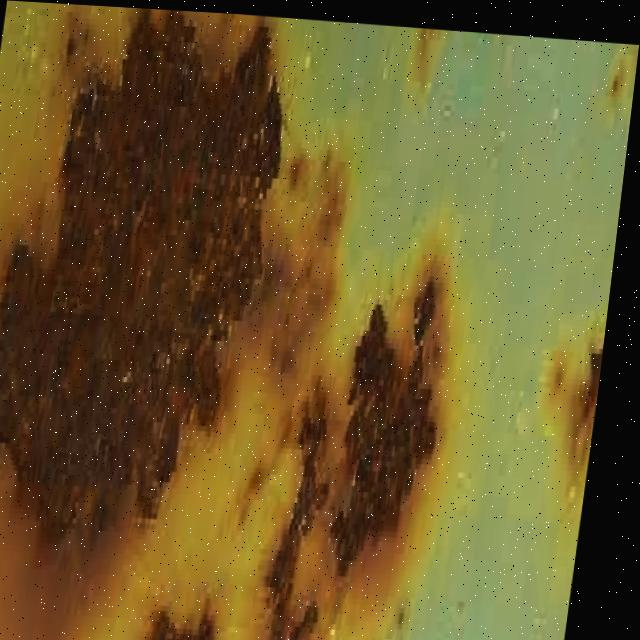corrosion: (0, 14, 282, 532), (214, 147, 350, 538), (342, 277, 441, 571), (548, 302, 615, 510), (280, 404, 338, 640), (166, 610, 227, 640)
